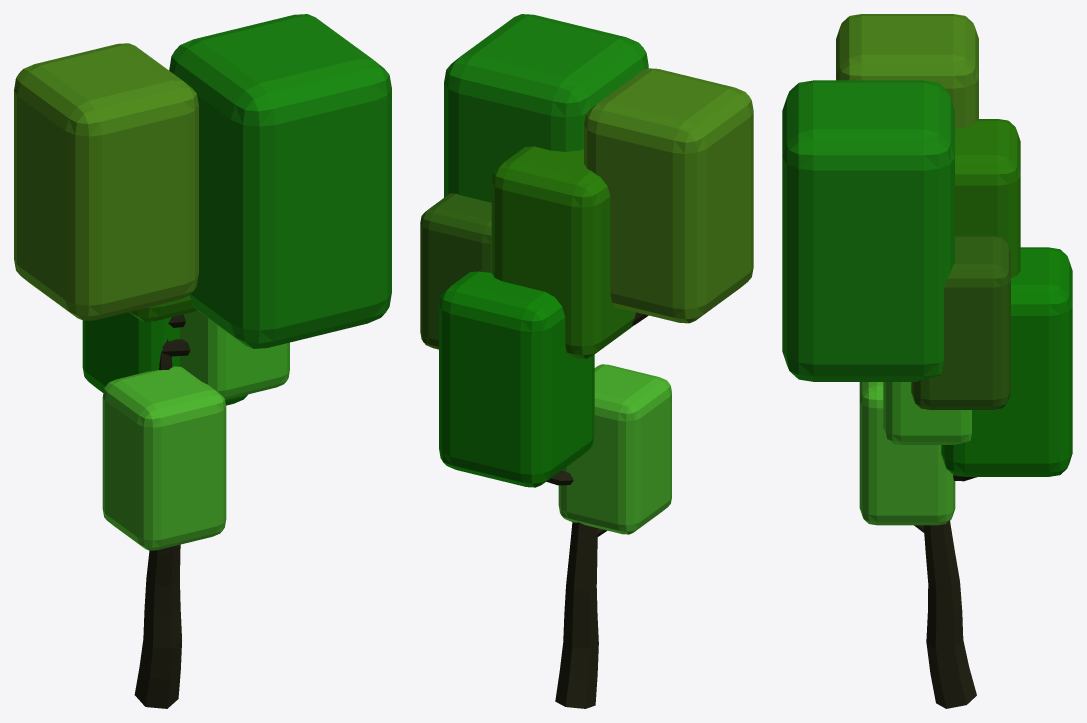
File: Tree1_V2.fbx
The picture shows the model from 3 angles, left to right: view 1: azimuth 30°, elevation 25°; view 2: azimuth 150°, elevation 25°; view 3: azimuth 270°, elevation 25°; orthographic projection. The views are drawn at different scales.
Parts seen in each view (by area): view 1: OUT_TREE; view 2: OUT_TREE; view 3: OUT_TREE.
Boxes of the visible parts, x1,y1,x2,y2 form: OUT_TREE: (14, 14, 391, 708); OUT_TREE: (420, 14, 753, 708); OUT_TREE: (782, 14, 1072, 708).
Size of the model in its own units: 0.7778 by 1.66 by 0.6911.
